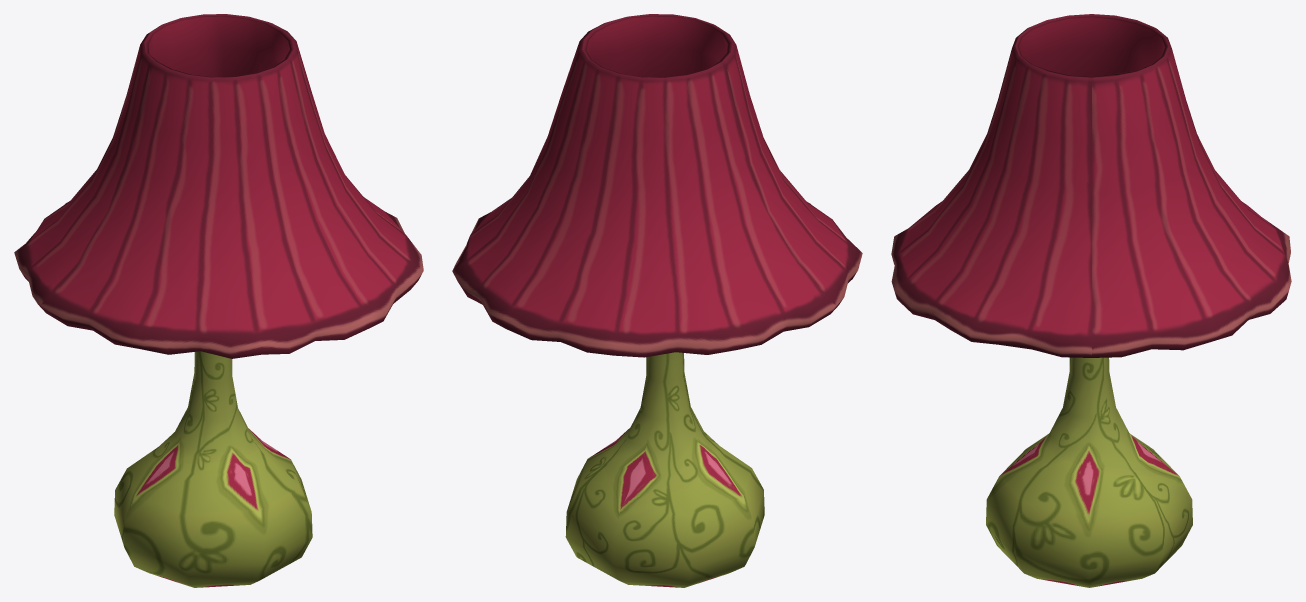
Rendered from Lamp_Frilly.fbx.
3 renders of one model, left to right at view 1: azimuth 30°, elevation 25°; view 2: azimuth 150°, elevation 25°; view 3: azimuth 270°, elevation 25°, orthographic.
Visible parts, largest first — view 1: FrillyLamp_Shade, FrillyLamp_Base; view 2: FrillyLamp_Shade, FrillyLamp_Base; view 3: FrillyLamp_Shade, FrillyLamp_Base.
Part boxes in pixels (x1,y1,x2,y2): FrillyLamp_Shade: (14, 14, 423, 358); FrillyLamp_Base: (114, 351, 312, 587); FrillyLamp_Shade: (452, 14, 862, 357); FrillyLamp_Base: (565, 352, 764, 587); FrillyLamp_Shade: (891, 14, 1291, 357); FrillyLamp_Base: (986, 357, 1192, 587).
Bounding box in the file's own units: 31.69 × 44.42 × 30.55.
